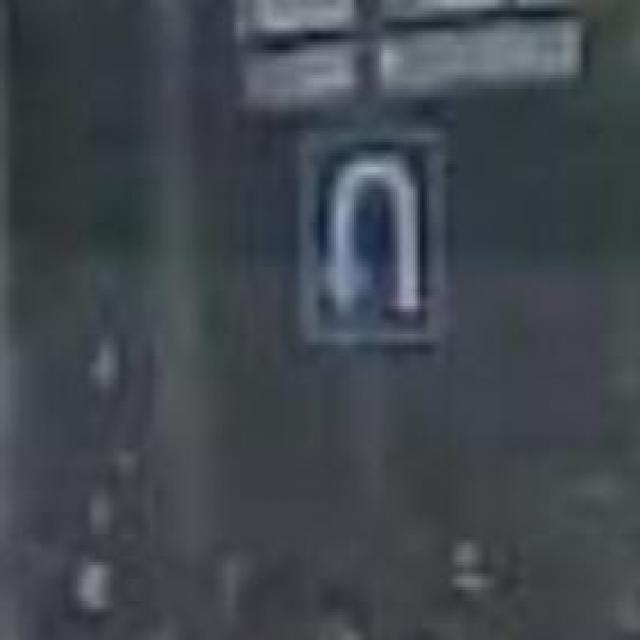U-turn: (296, 131, 438, 344)
